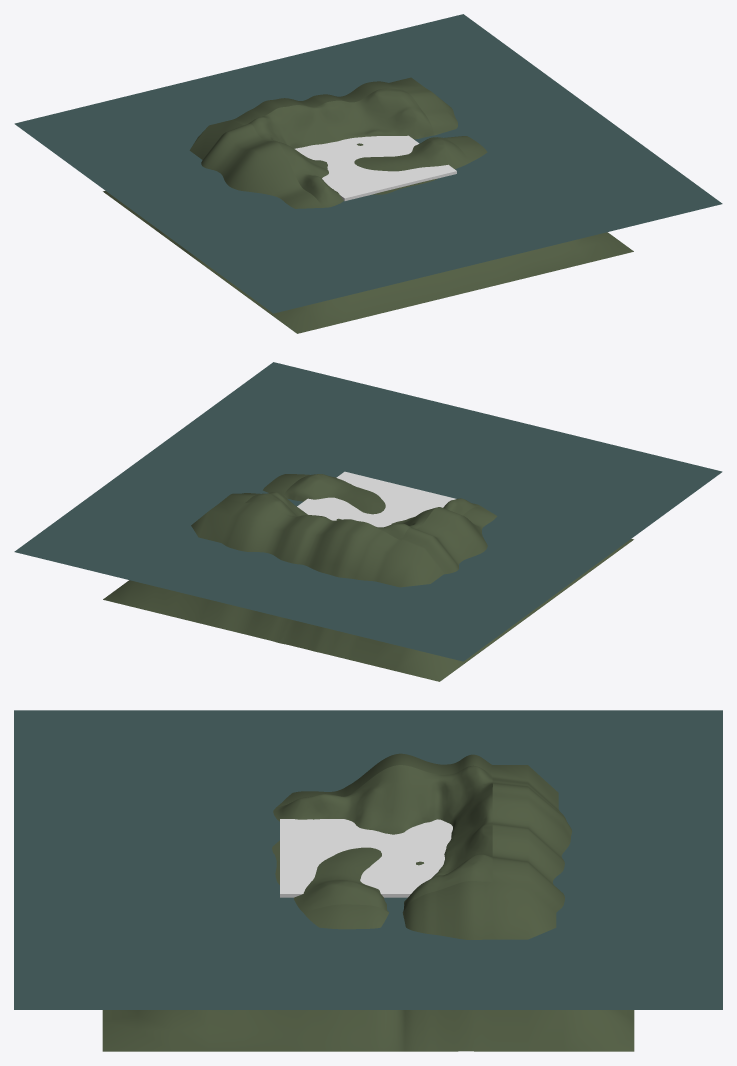
The model's file is landscape.glb.
The picture shows the model from 3 angles, top to bottom: view 1: azimuth 30°, elevation 25°; view 2: azimuth 150°, elevation 25°; view 3: azimuth 270°, elevation 25°; orthographic projection. The views are drawn at different scales.
Visible parts, largest first — view 1: Sea, LandscapeConcave-noimp, Landscape, 25m-noimp; view 2: Sea, LandscapeConcave-noimp, Landscape, 25m-noimp; view 3: Sea, LandscapeConcave-noimp, Landscape, 25m-noimp.
Boxes of the visible parts, <box> form: Sea: <box>14,14,722,313</box>; LandscapeConcave-noimp: <box>103,77,633,333</box>; Landscape: <box>249,87,470,207</box>; 25m-noimp: <box>295,135,456,200</box>; Sea: <box>14,362,722,661</box>; LandscapeConcave-noimp: <box>103,474,633,681</box>; Landscape: <box>245,474,480,540</box>; 25m-noimp: <box>297,471,455,527</box>; Sea: <box>14,710,722,1009</box>; LandscapeConcave-noimp: <box>102,753,634,1051</box>; Landscape: <box>272,765,493,912</box>; 25m-noimp: <box>280,819,452,897</box>.
Size of what is drawn, in the model's own units: 100 by 19.39 by 100.
